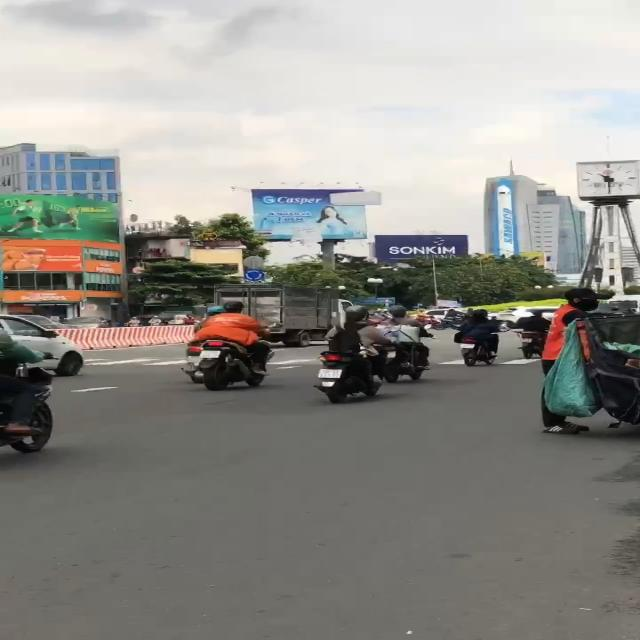Bien bao noi giao nhau chay theo vong xuyen: (243, 270, 266, 281)
